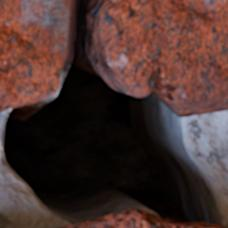brick: (62, 209, 220, 227)
broken_brick: (102, 0, 227, 117), (0, 0, 69, 113)
crack: (0, 0, 226, 227)
